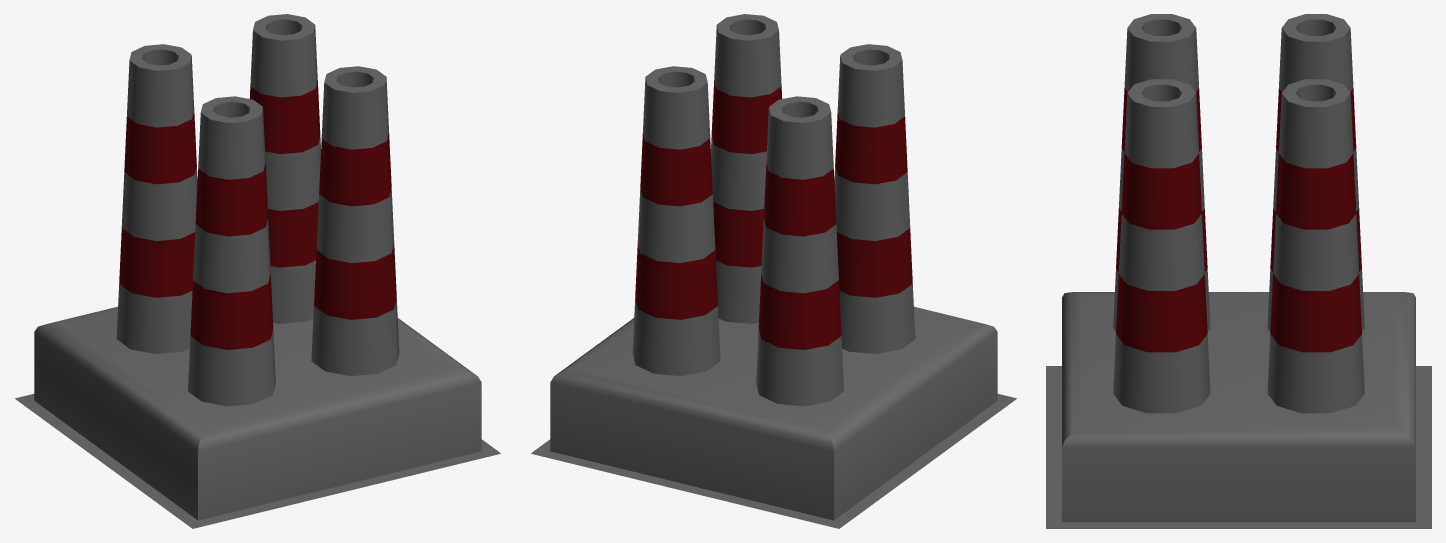
Rendered from IndustrieCharbon.fbx.
3 views of the same model, side by side, from view 1: azimuth 30°, elevation 25°; view 2: azimuth 150°, elevation 25°; view 3: azimuth 270°, elevation 25° (orthographic). The views are drawn at different scales.
Parts seen in each view (by area): view 1: EnergieCharbon; view 2: EnergieCharbon; view 3: EnergieCharbon.
Part boxes in pixels (box(x1,y1,x2,y2)): EnergieCharbon: box(15, 14, 500, 528); EnergieCharbon: box(531, 14, 1016, 528); EnergieCharbon: box(1046, 14, 1431, 528).
Bounding box in the file's own units: 1000 × 1107 × 1000.
